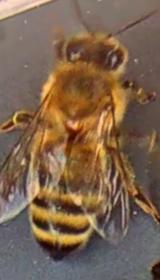varroa_mite: (62, 116, 82, 142)
